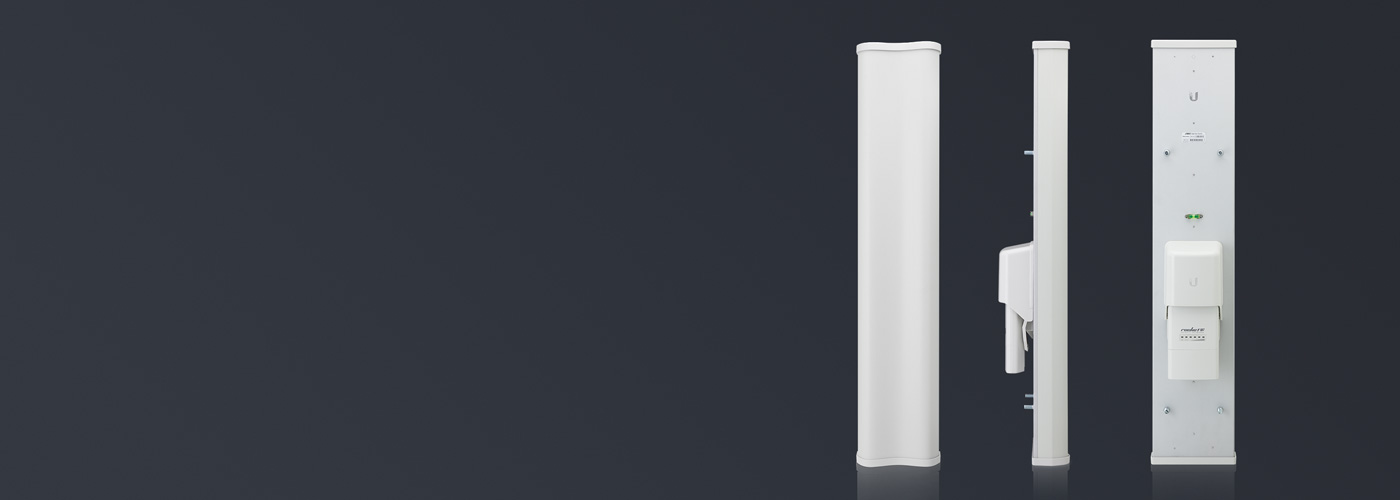sa: (1123, 19, 1260, 488), (824, 33, 959, 461), (1007, 19, 1081, 451)
